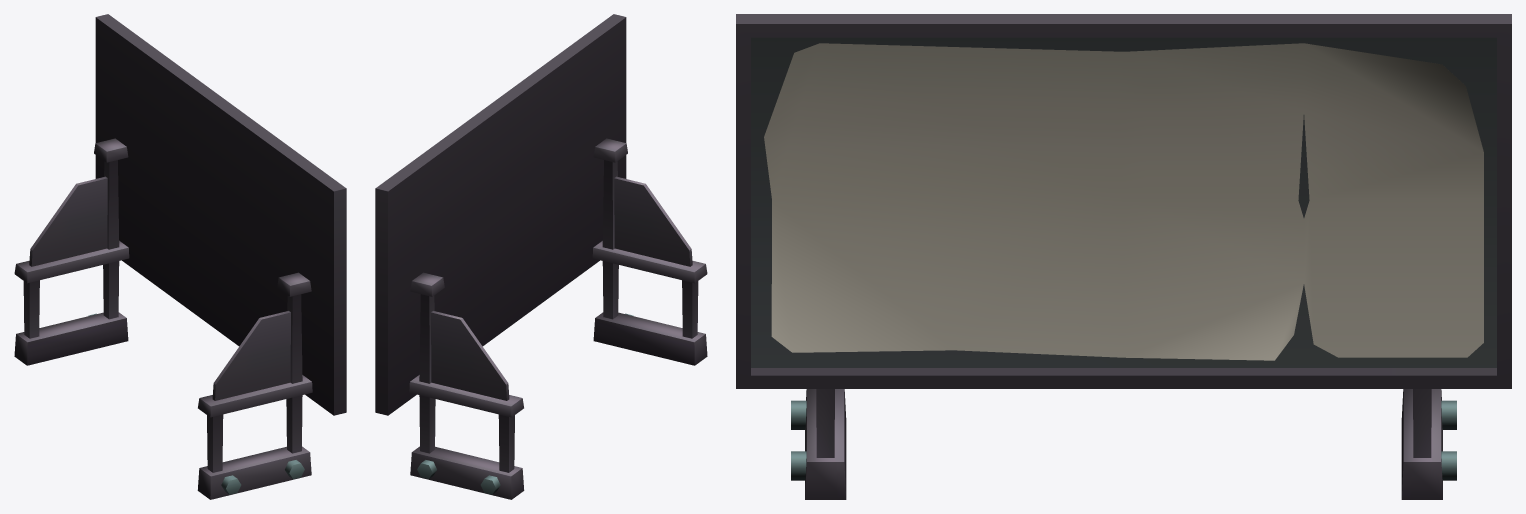
File: Billboard_3A.fbx
3 views of the same model, side by side, from view 1: azimuth 30°, elevation 25°; view 2: azimuth 150°, elevation 25°; view 3: azimuth 270°, elevation 25° (orthographic). The views are drawn at different scales.
Visible parts, largest first — view 1: Billboard_3A; view 2: Billboard_3A; view 3: Billboard_3A_Image, Billboard_3A.
Part boxes in pixels (bbox=[...]): Billboard_3A: bbox=[14, 14, 346, 499]; Billboard_3A: bbox=[375, 14, 707, 499]; Billboard_3A_Image: bbox=[764, 43, 1483, 360]; Billboard_3A: bbox=[736, 14, 1511, 499].
Size of the model in its own units: 316 by 720 by 1040.
